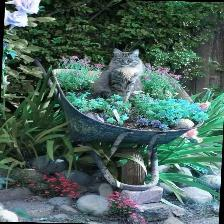kedo: (90, 49, 144, 102)
